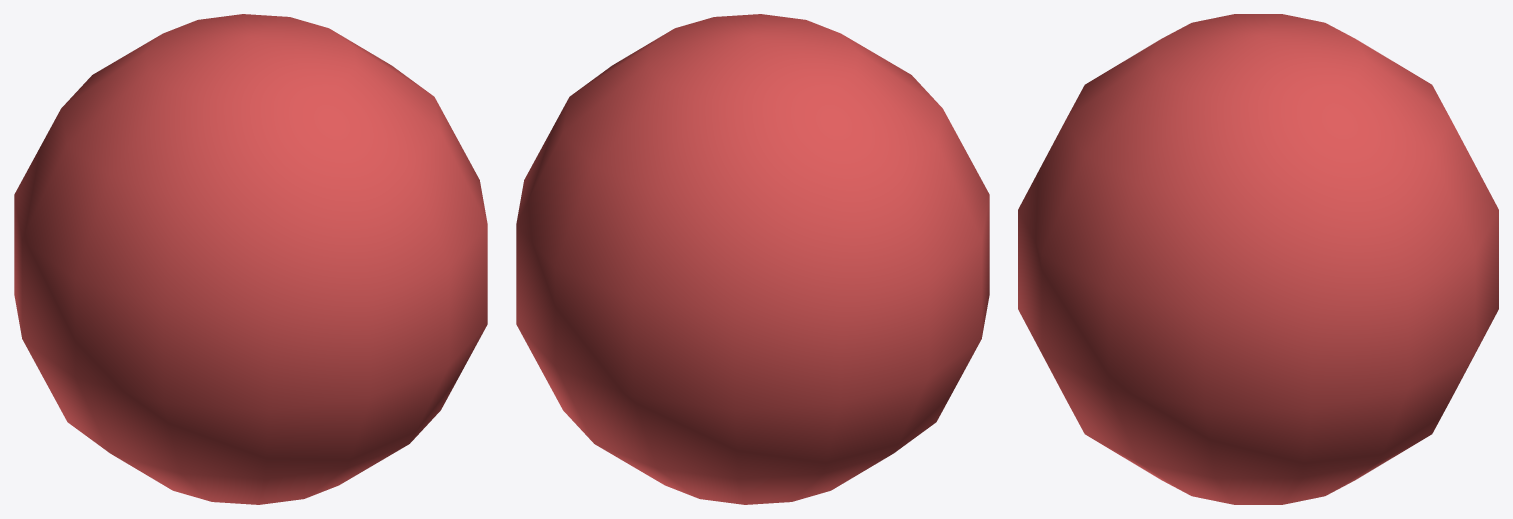
Rendered from prop_swordfight_dummy.glb.
The picture shows the model from 3 angles, left to right: view 1: azimuth 30°, elevation 25°; view 2: azimuth 150°, elevation 25°; view 3: azimuth 270°, elevation 25°; orthographic projection.
Parts seen in each view (by area): view 1: Sphere; view 2: Sphere; view 3: Sphere.
Boxes of the visible parts, x1,y1,x2,y2 form: Sphere: [14, 14, 487, 504]; Sphere: [516, 14, 989, 504]; Sphere: [1018, 14, 1498, 504].
Size of the model in its own units: 0.1358 by 0.1429 by 0.1393.
